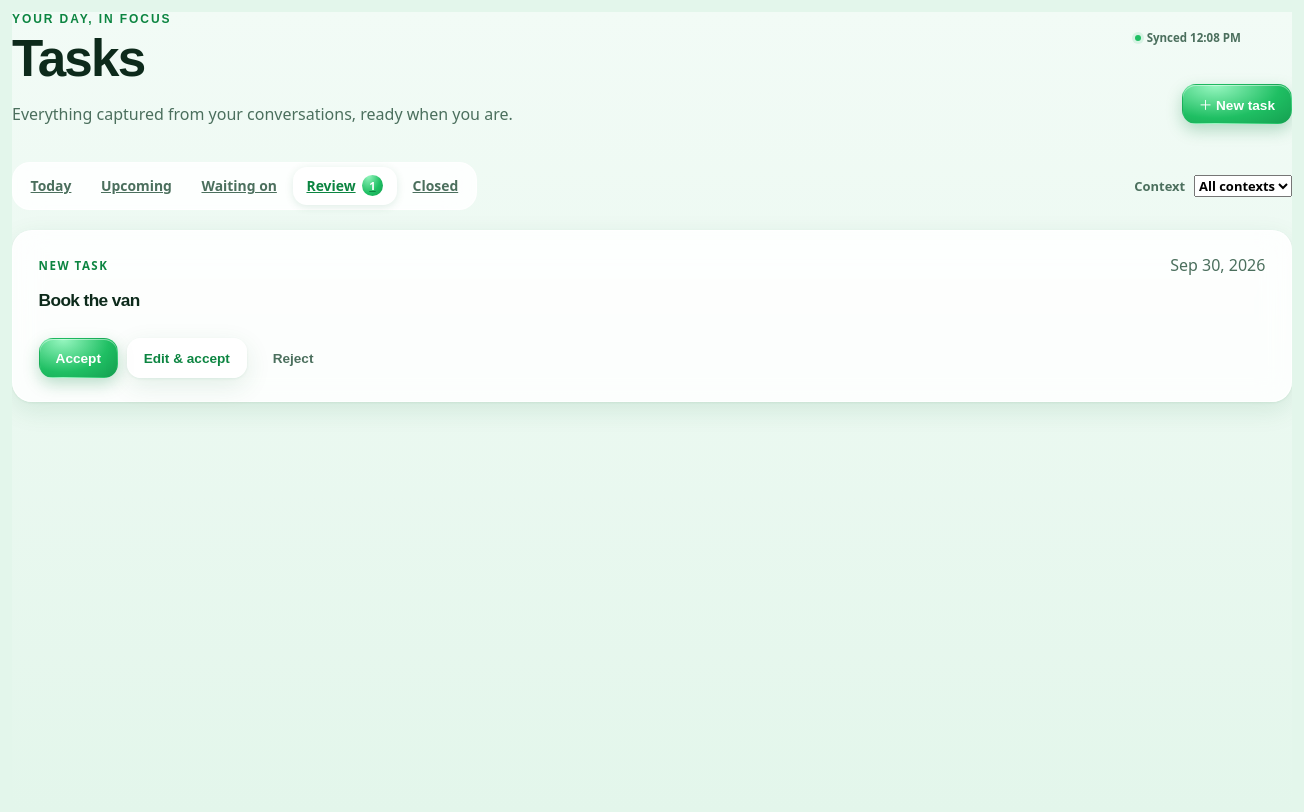
Test: Workspace interactions › adopts a review decision even when its follow-up refresh fails
The image size is (1304, 812).
Click the button "Accept" at coordinates (78, 358), box [39,338,118,378]
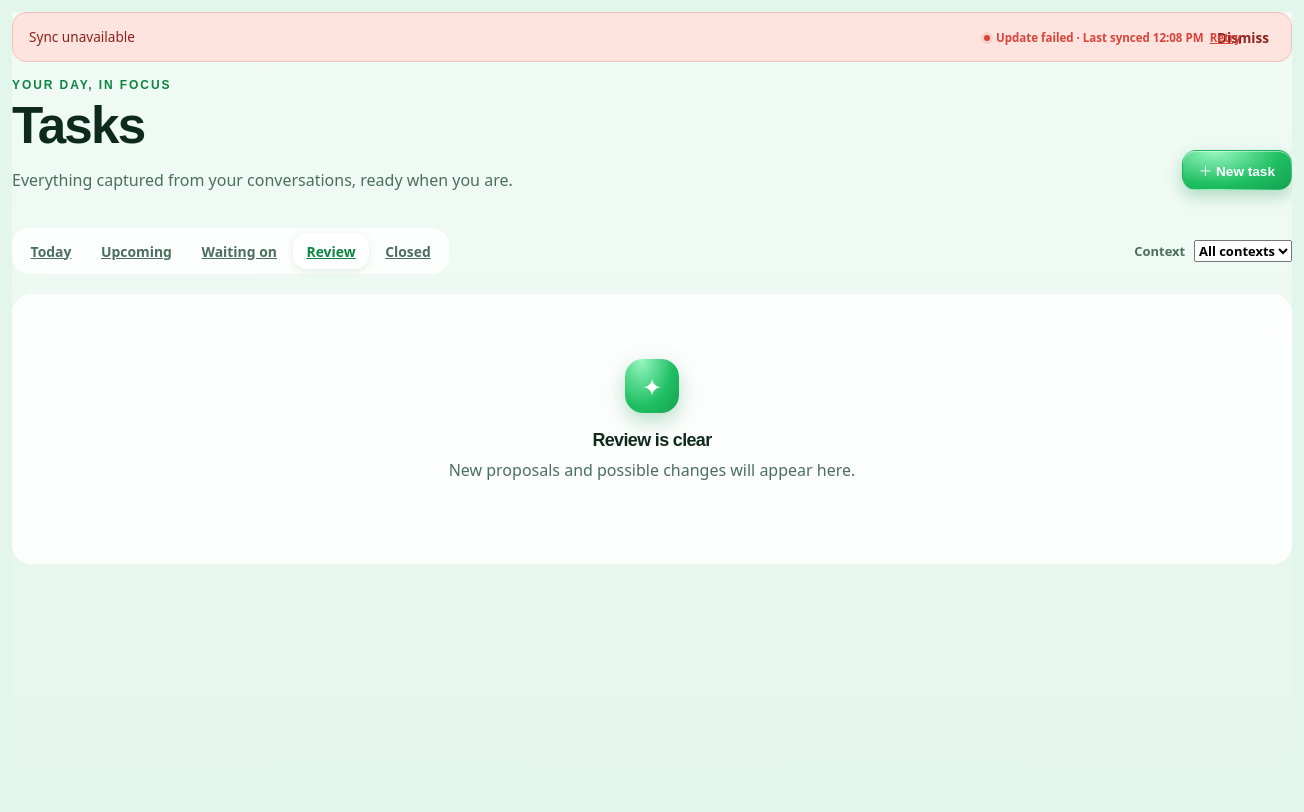
Expected: the text "Book the van" is gone
Expected: the text "Review is clear" is shown, [592,429,712,453]
Expected: the text "Update failed" is shown, [996,30,1204,45]
